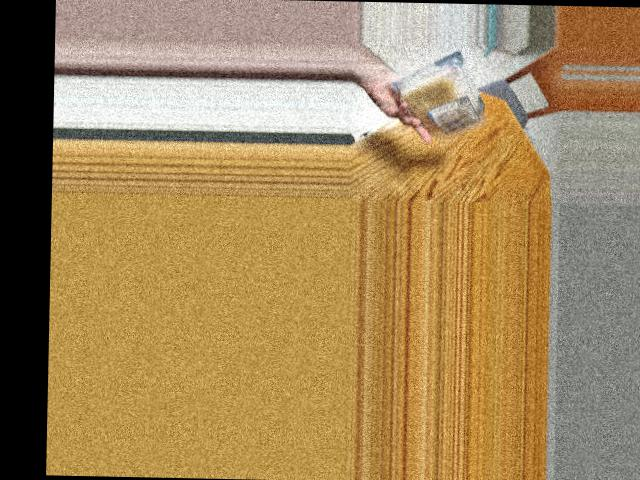cheese: (394, 60, 492, 139)
